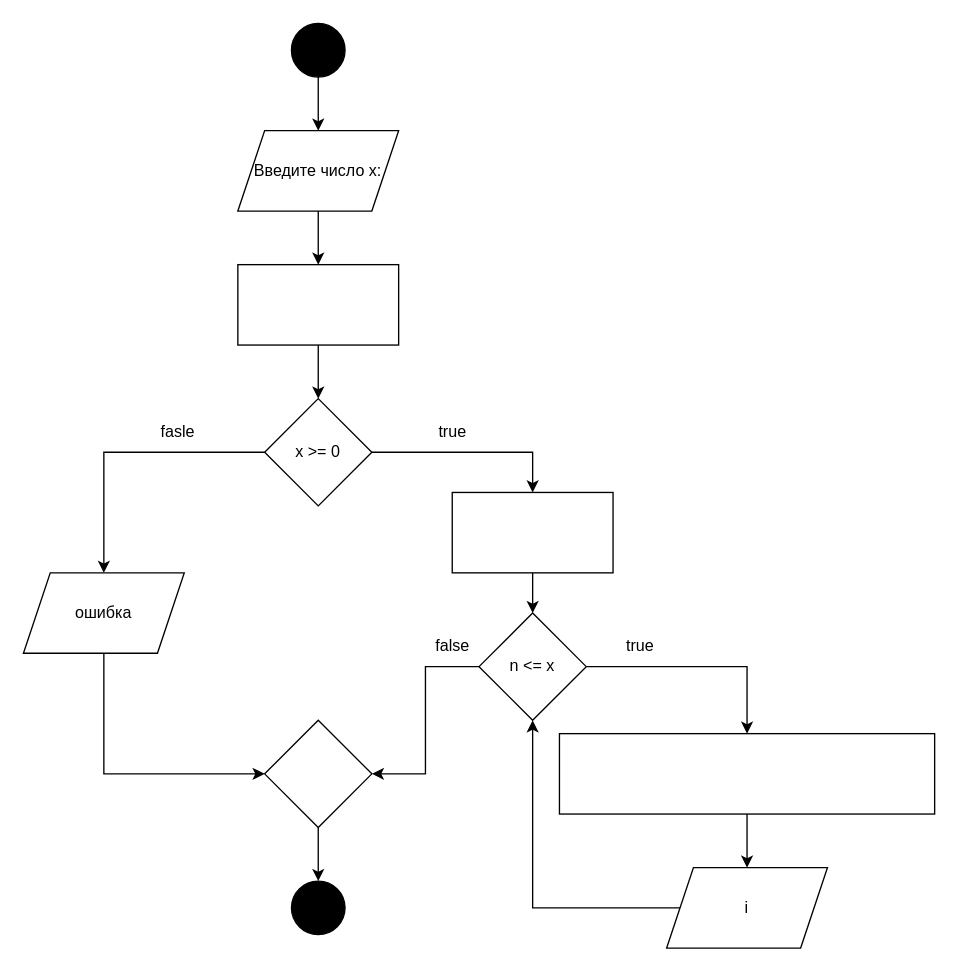
Some shapes in this 958 by 972 pixel diagram are drawn without their labels. The shapes that lost their labels are listed below. From the top down, each one's box as (x1, y1, x2, y2) in pixels, then its label:
(237, 263, 399, 345): row = 0
(451, 491, 613, 573): n = 0
(558, 732, 935, 814): row += ((-1)^n * (Pi/2)^2n)/((2n)! * (4n - 1)
